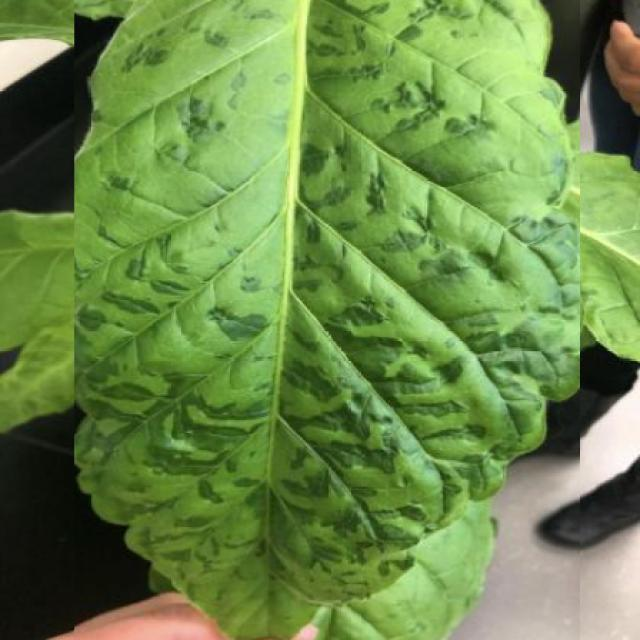Mosaic Virus: (74, 0, 580, 640)
